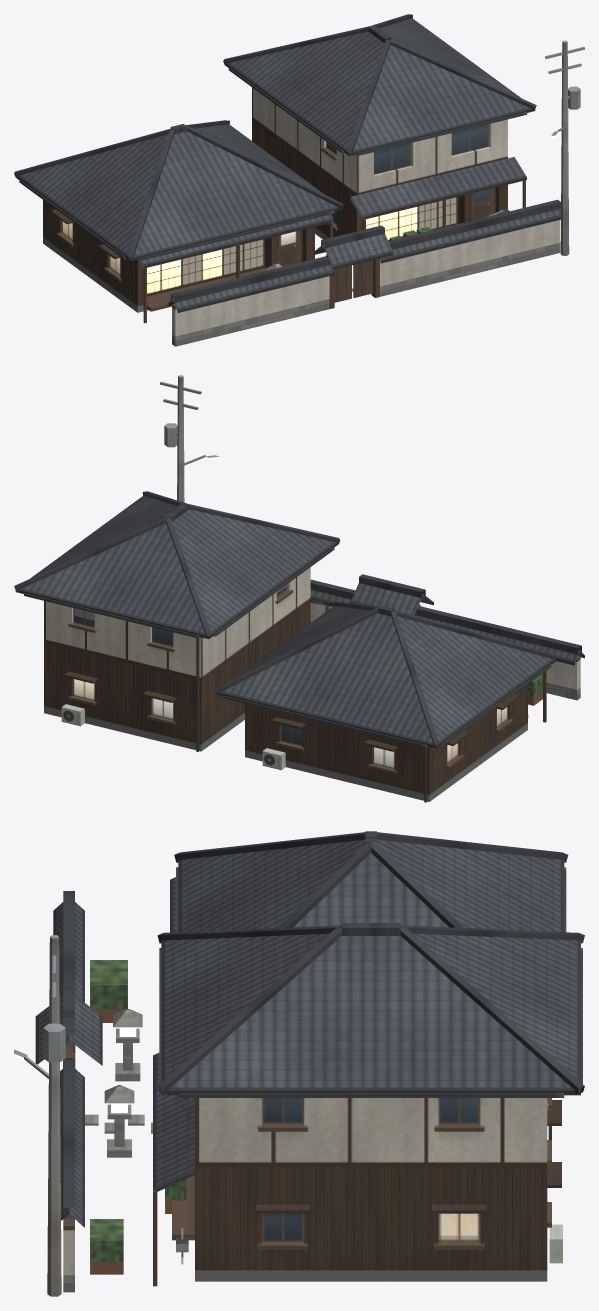
The model's file is tokyo_house_e.glb.
3 views of the same model, one above another, from view 1: azimuth 30°, elevation 25°; view 2: azimuth 150°, elevation 25°; view 3: azimuth 270°, elevation 25° (orthographic). The views are drawn at different scales.
Visible parts, largest first — view 1: tokyo_house_e; view 2: tokyo_house_e; view 3: tokyo_house_e.
Part boxes in pixels (box(x1,y1,x2,y2)): tokyo_house_e: box(14, 14, 584, 346); tokyo_house_e: box(14, 375, 584, 802); tokyo_house_e: box(14, 831, 584, 1296).
Bounding box in the file's own units: 19.4 × 9.4 × 13.61.
Materials: 1 (1 with a texture image).
